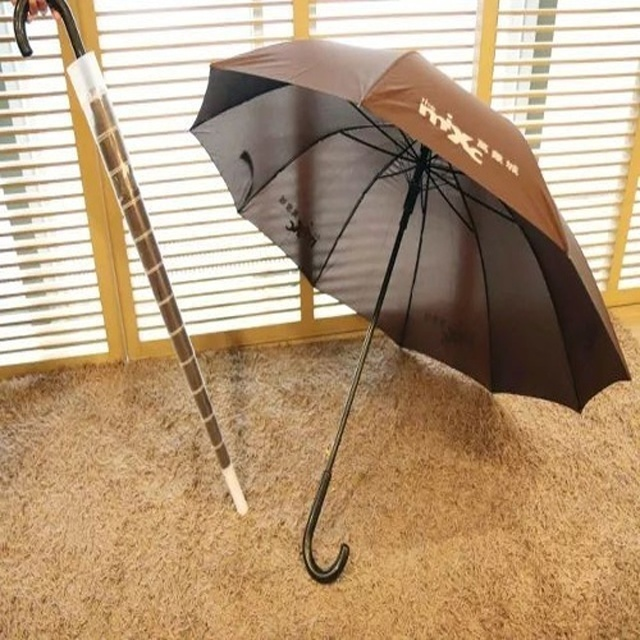umbrella: (189, 35, 640, 588), (11, 1, 256, 518)
